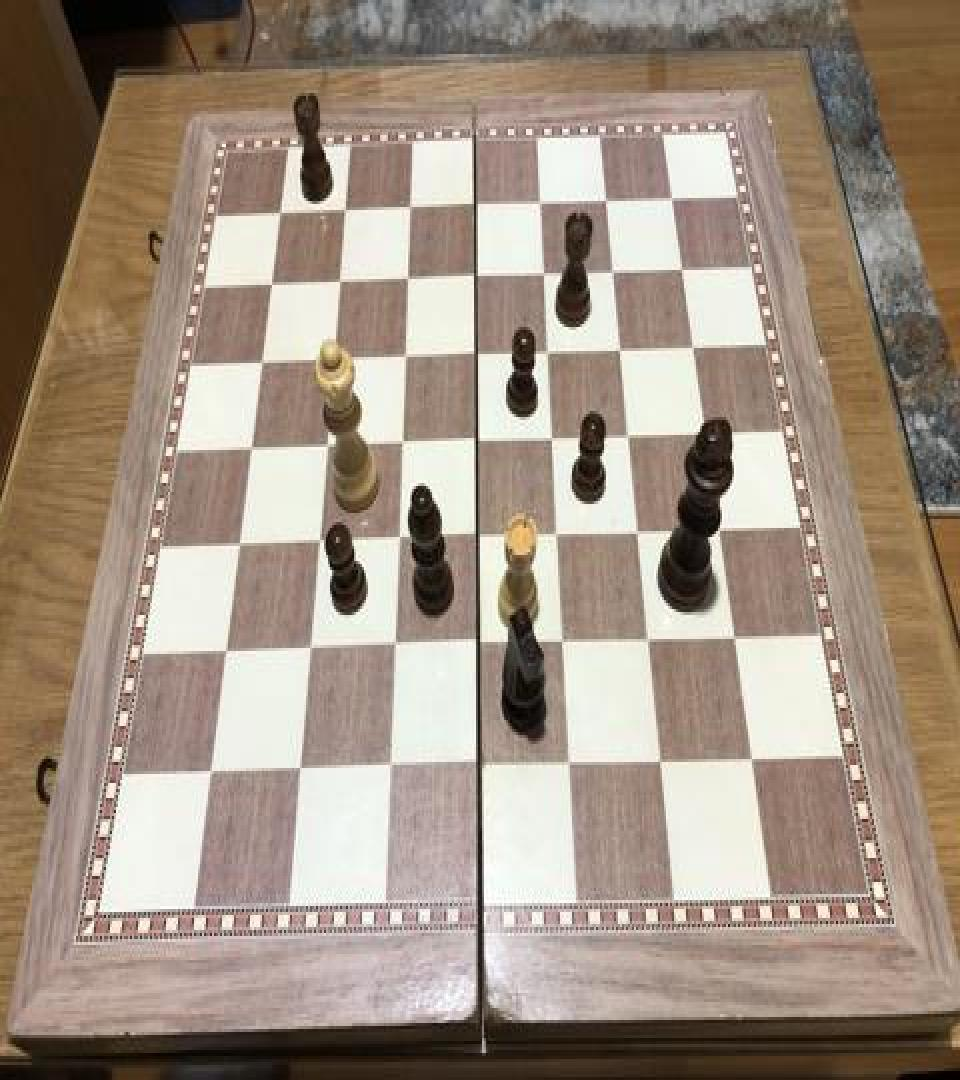xcorner: (631, 514, 655, 551), (390, 520, 414, 557), (642, 622, 666, 659), (557, 625, 581, 662), (302, 631, 326, 668), (745, 742, 769, 779), (473, 748, 497, 785), (203, 754, 227, 791), (663, 182, 687, 218), (597, 184, 621, 220), (532, 186, 556, 222), (401, 189, 425, 225), (336, 192, 360, 228), (271, 194, 295, 230), (674, 254, 698, 290), (605, 255, 629, 291), (536, 256, 560, 292), (467, 258, 491, 294), (399, 261, 423, 297), (330, 262, 354, 298), (262, 264, 286, 300), (685, 330, 709, 366), (613, 333, 637, 369), (540, 334, 564, 370), (468, 336, 492, 372), (396, 339, 420, 375), (324, 340, 348, 376), (253, 342, 277, 378), (698, 417, 722, 453), (621, 418, 645, 454), (545, 422, 569, 458), (469, 423, 493, 459), (393, 424, 417, 460), (318, 428, 342, 464), (242, 429, 266, 465), (712, 513, 736, 549), (551, 518, 575, 554), (470, 519, 494, 555), (310, 524, 334, 560), (230, 525, 254, 561), (728, 621, 752, 657), (472, 627, 496, 663), (387, 628, 411, 664), (217, 633, 241, 669), (654, 744, 678, 780), (564, 747, 588, 783), (383, 750, 407, 786), (292, 752, 316, 788), (466, 188, 490, 223)
